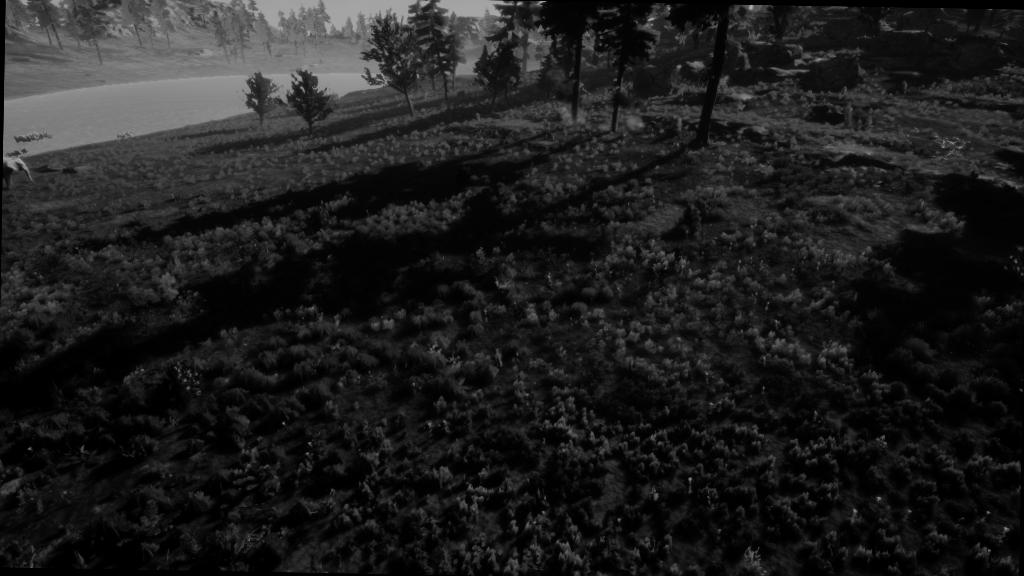Fire: (596, 96, 654, 136), (555, 101, 591, 130)
elephant: (2, 155, 38, 189)
human: (585, 262, 605, 290), (642, 260, 660, 290), (628, 241, 646, 269), (540, 268, 558, 295), (668, 243, 684, 270), (656, 262, 668, 290)
rhinoceros: (12, 132, 42, 145), (28, 130, 56, 141)
